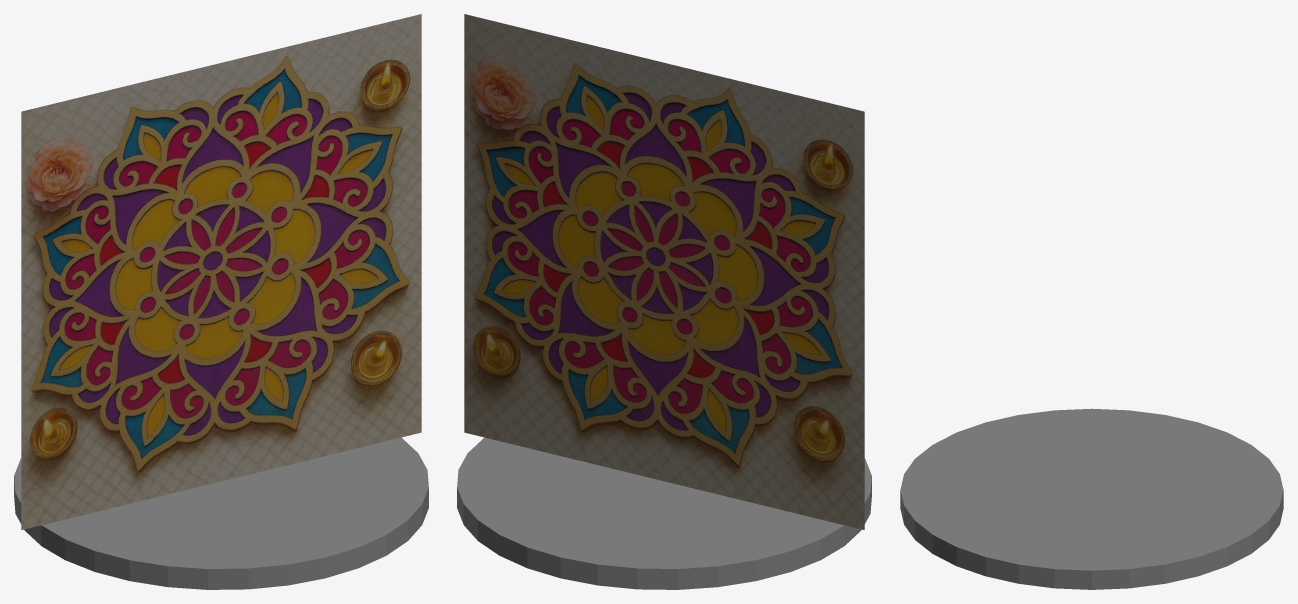
3 views of the same model, side by side, from view 1: azimuth 30°, elevation 25°; view 2: azimuth 150°, elevation 25°; view 3: azimuth 270°, elevation 25° (orthographic). The views are drawn at different scales.
Parts seen in each view (by area): view 1: photo, base; view 2: photo, base; view 3: base.
Part boxes in pixels (x1,y1,x2,y2): photo: (21,14,421,529); base: (14,437,428,589); photo: (464,14,864,529); base: (457,437,871,589); base: (900,408,1283,589).
Size of the model in its own units: 0.4 by 0.42 by 0.36.
1 material, 1 textured.
